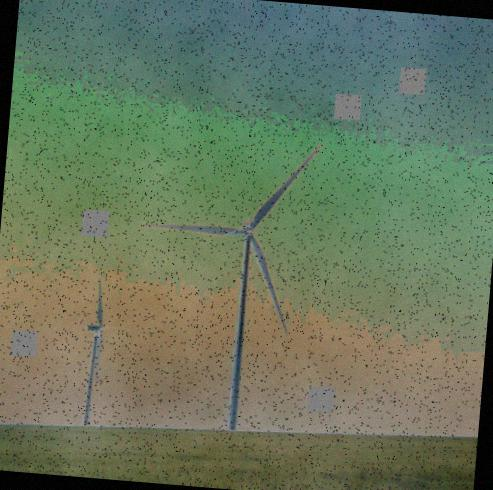wind turbine: (139, 139, 325, 429)
